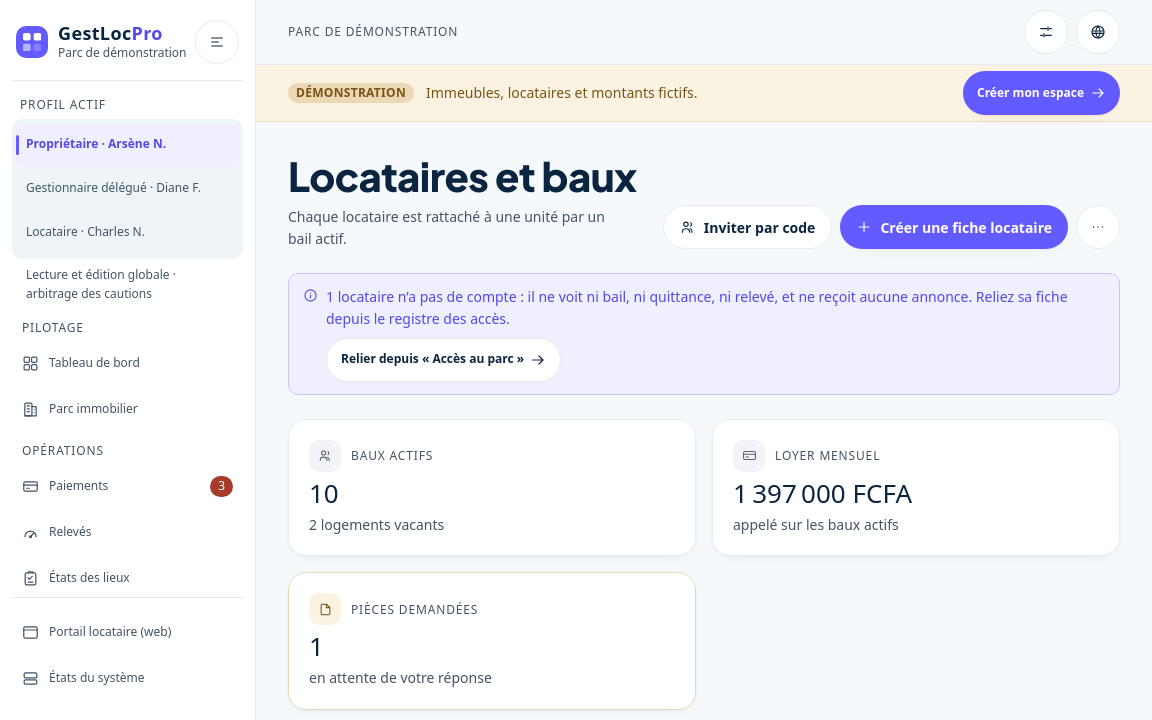
Test: la note du gestionnaire, à l’invitation › dit qu’il ne verra RIEN tant qu’on ne lui a rien confié
Click the button "Inviter par code" at (748, 227), box 663,205 -> 832,249
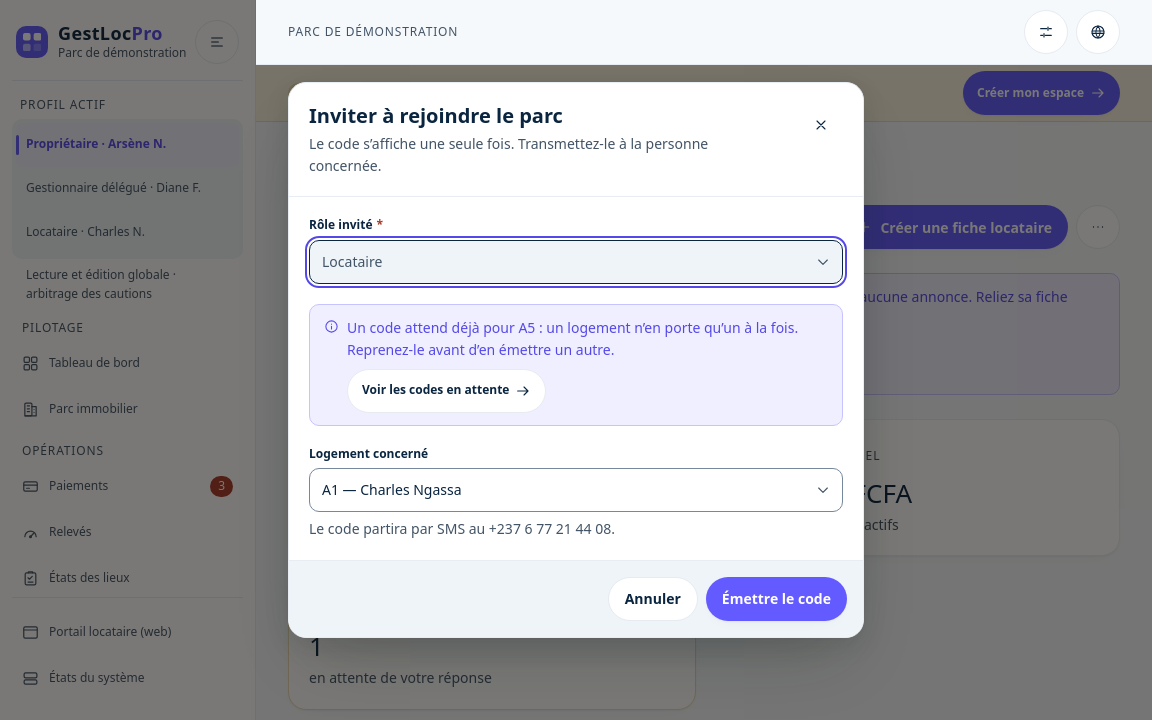
Select "Gestionnaire délégué" in the dropdown labelled "Rôle invité*" at (576, 262), box 309,240 -> 843,284
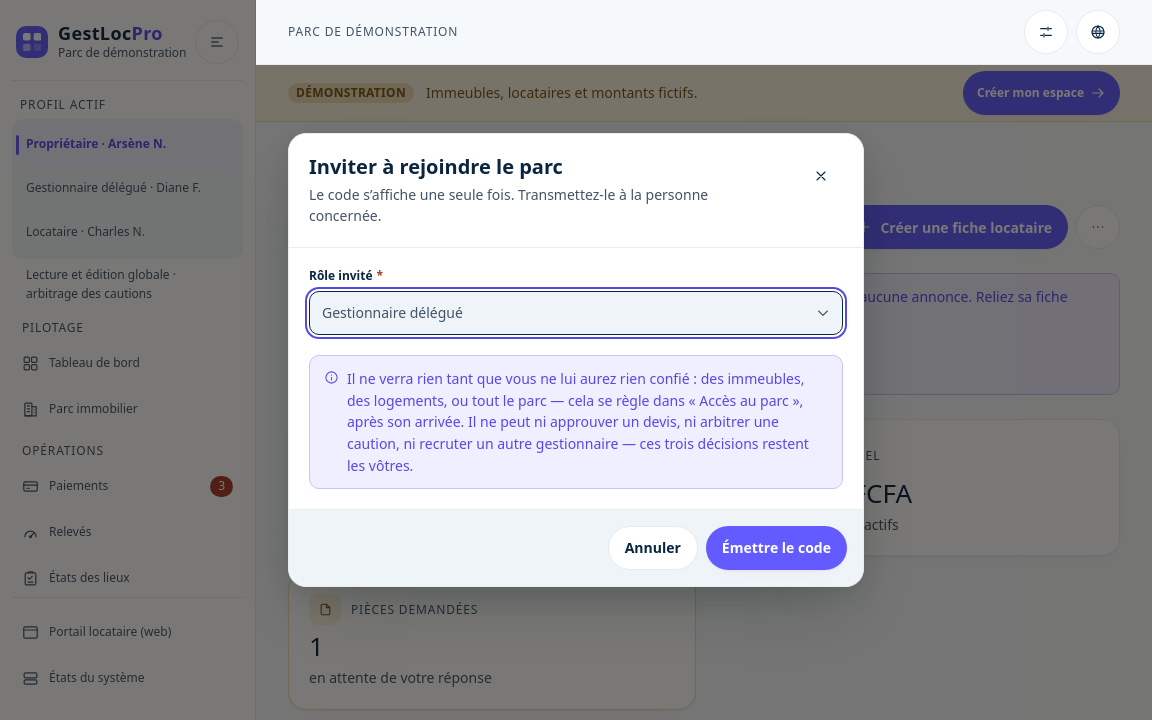
Expected: the dialog shows "ne verra rien tant que", 347,369 -> 809,475
